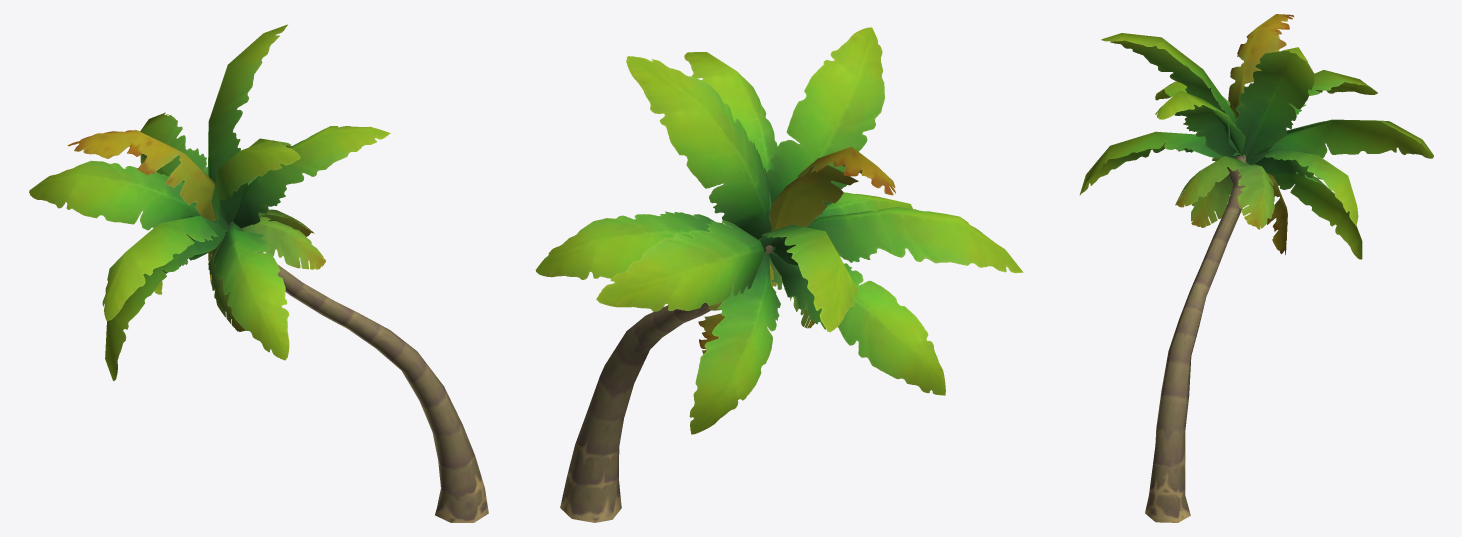
File: P_IStree_1002.fbx
3 views of the same model, side by side, from view 1: azimuth 30°, elevation 25°; view 2: azimuth 150°, elevation 25°; view 3: azimuth 270°, elevation 25° (orthographic). The views are drawn at different scales.
Parts seen in each view (by area): view 1: P_IStree_1002; view 2: P_IStree_1002; view 3: P_IStree_1002.
Boxes of the visible parts, box(x1,y1,x2,y2) form: P_IStree_1002: box(29, 24, 488, 522); P_IStree_1002: box(535, 27, 1023, 522); P_IStree_1002: box(1079, 14, 1433, 522).
Size of the model in its own units: 3.19 by 3.62 by 2.94.
1 material, 1 textured.
